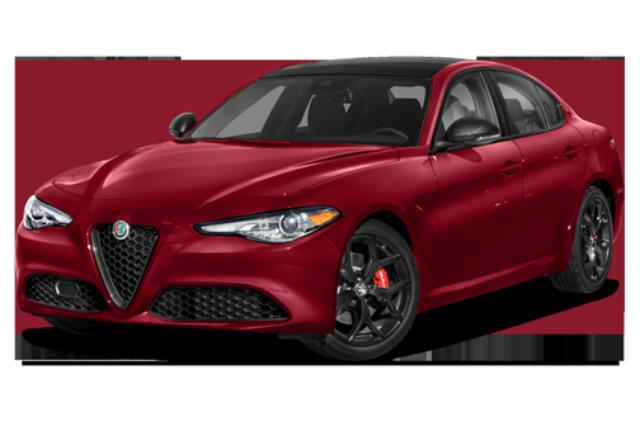alpha-romeo: (14, 57, 626, 362)
